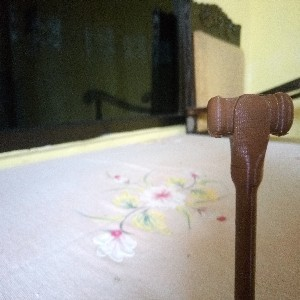palu: (206, 91, 292, 300)
